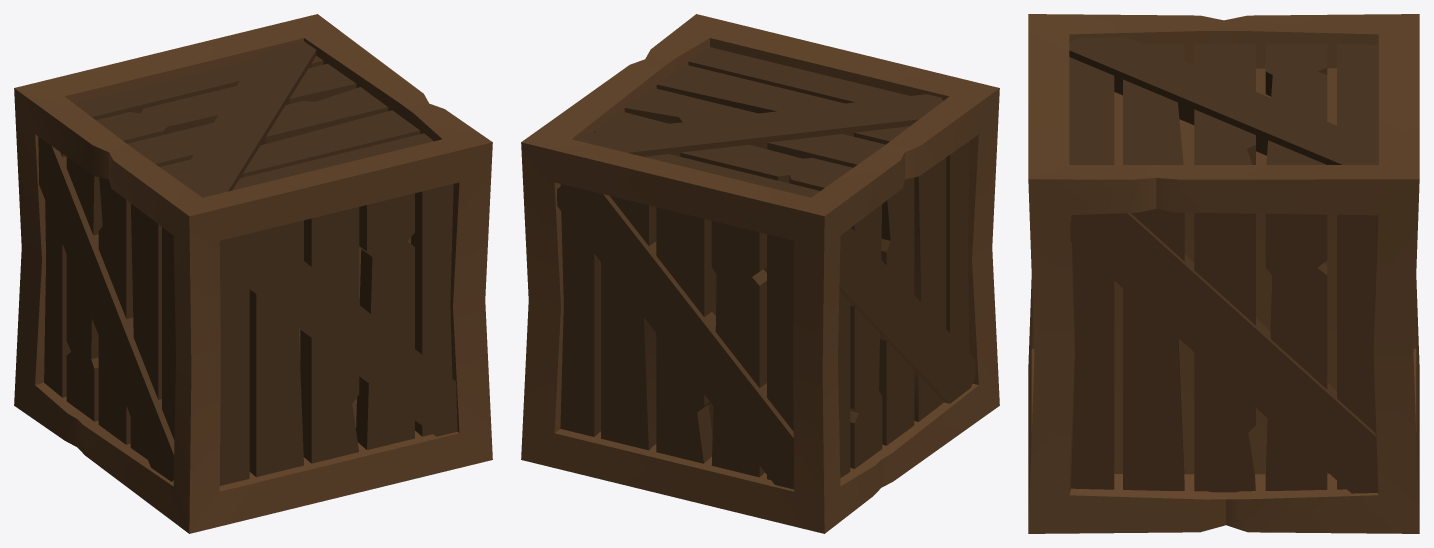
File: crate.glb
3 views of the same model, side by side, from view 1: azimuth 30°, elevation 25°; view 2: azimuth 150°, elevation 25°; view 3: azimuth 270°, elevation 25° (orthographic). The views are drawn at different scales.
Visible parts, largest first — view 1: Crate; view 2: Crate; view 3: Crate.
Boxes of the visible parts, <box> form: Crate: <box>14,14,492,533</box>; Crate: <box>521,14,999,533</box>; Crate: <box>1028,14,1419,533</box>.
Bounding box in the file's own units: 0.1602 × 0.1602 × 0.1602.
